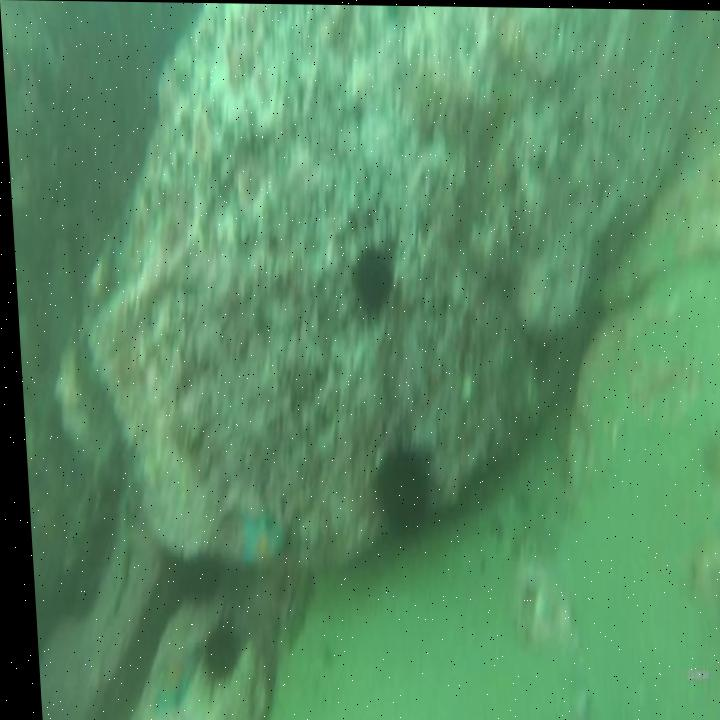echinus: (363, 424, 432, 547), (341, 230, 398, 323), (189, 603, 239, 701)
starfish: (229, 500, 286, 577), (141, 640, 193, 711)
